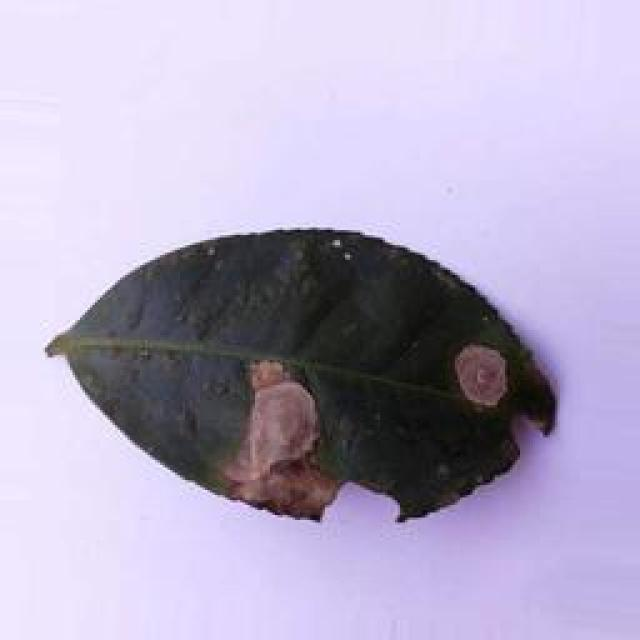Gray Blight: (58, 224, 562, 524)
